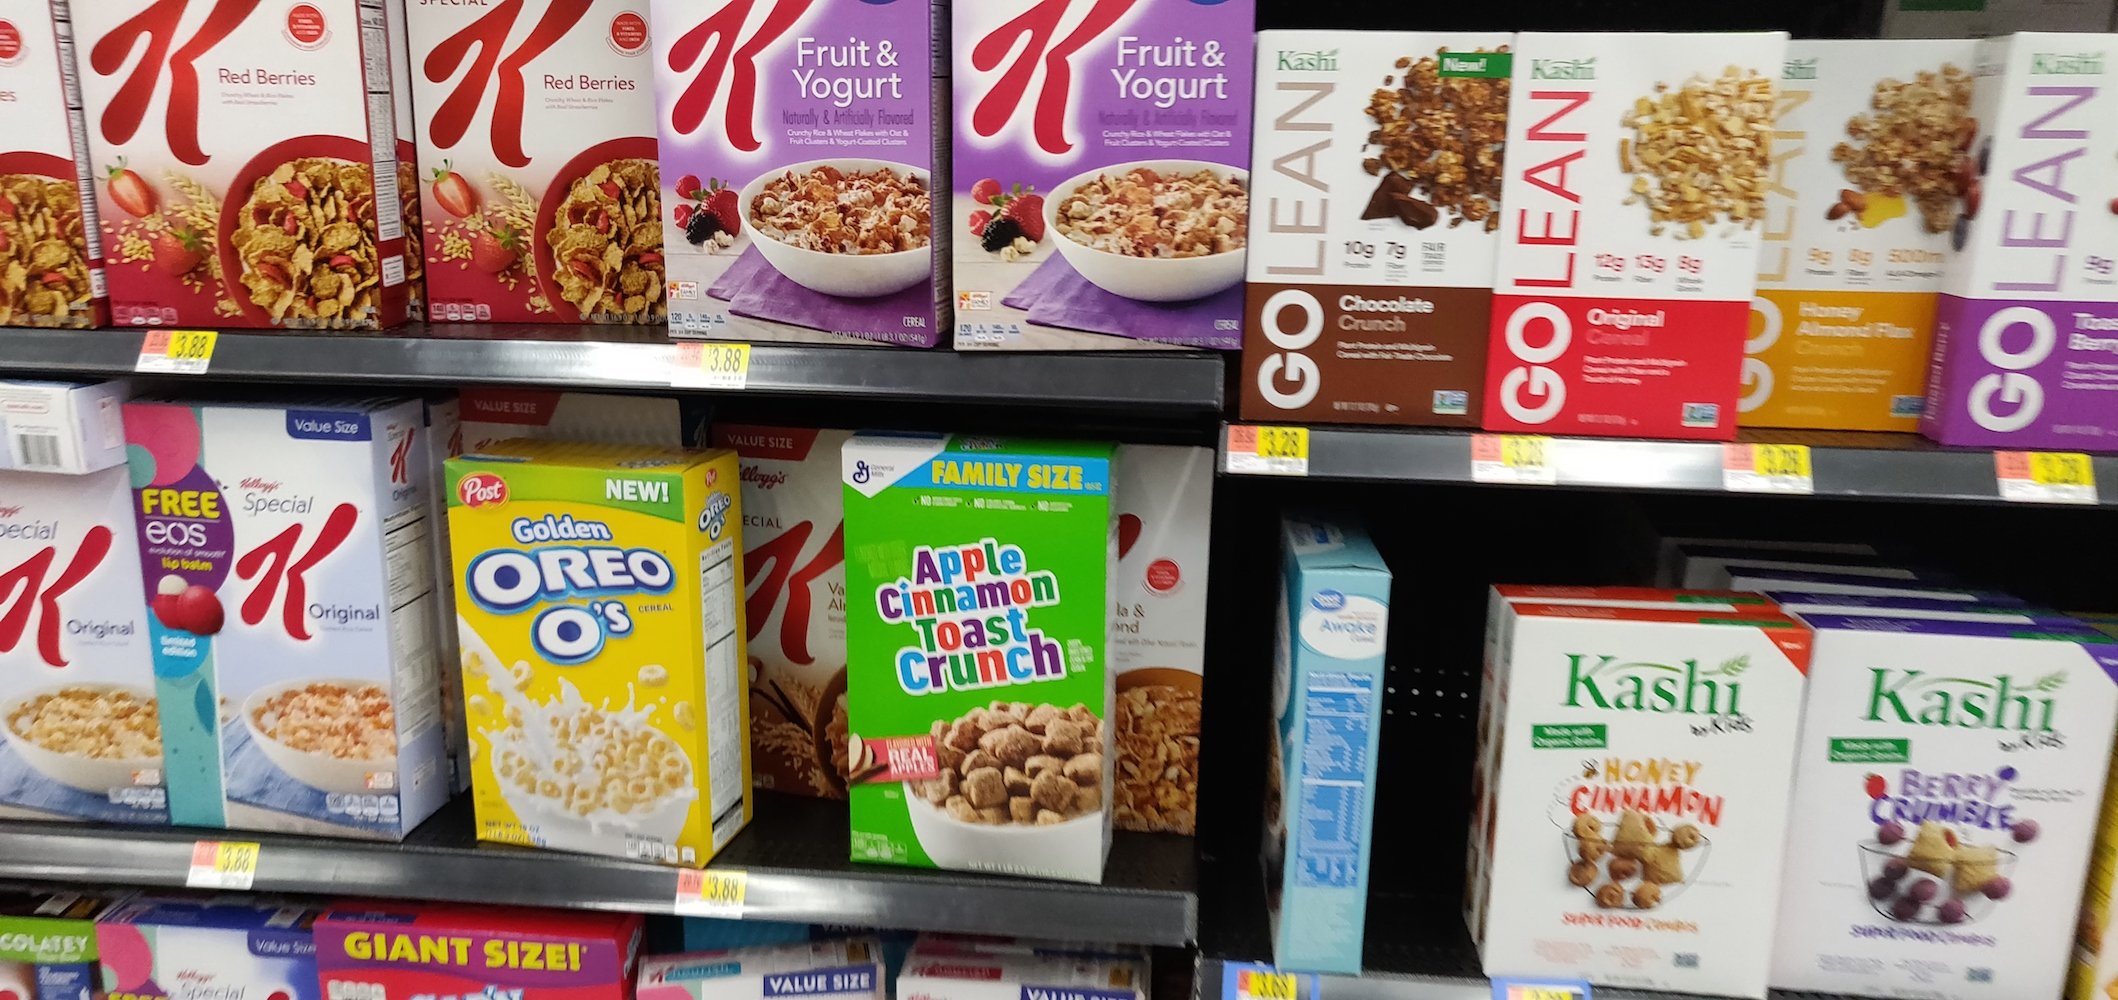Oreo Golden-568301011: (451, 438, 744, 855)
